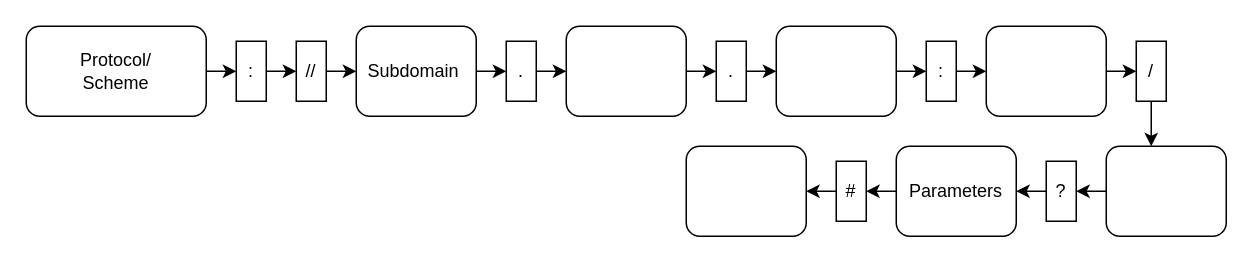
The diagram is 1253 pixels wide and 263 high, and some of its shapes have lost their labels. Here are the shapes that lost their labels. From the top down, the centre of each, then its label:
[625,70]: Main Domain
[835,70]: TLD
[1045,70]: Port
[745,190]: Fragment
[1165,190]: Path
